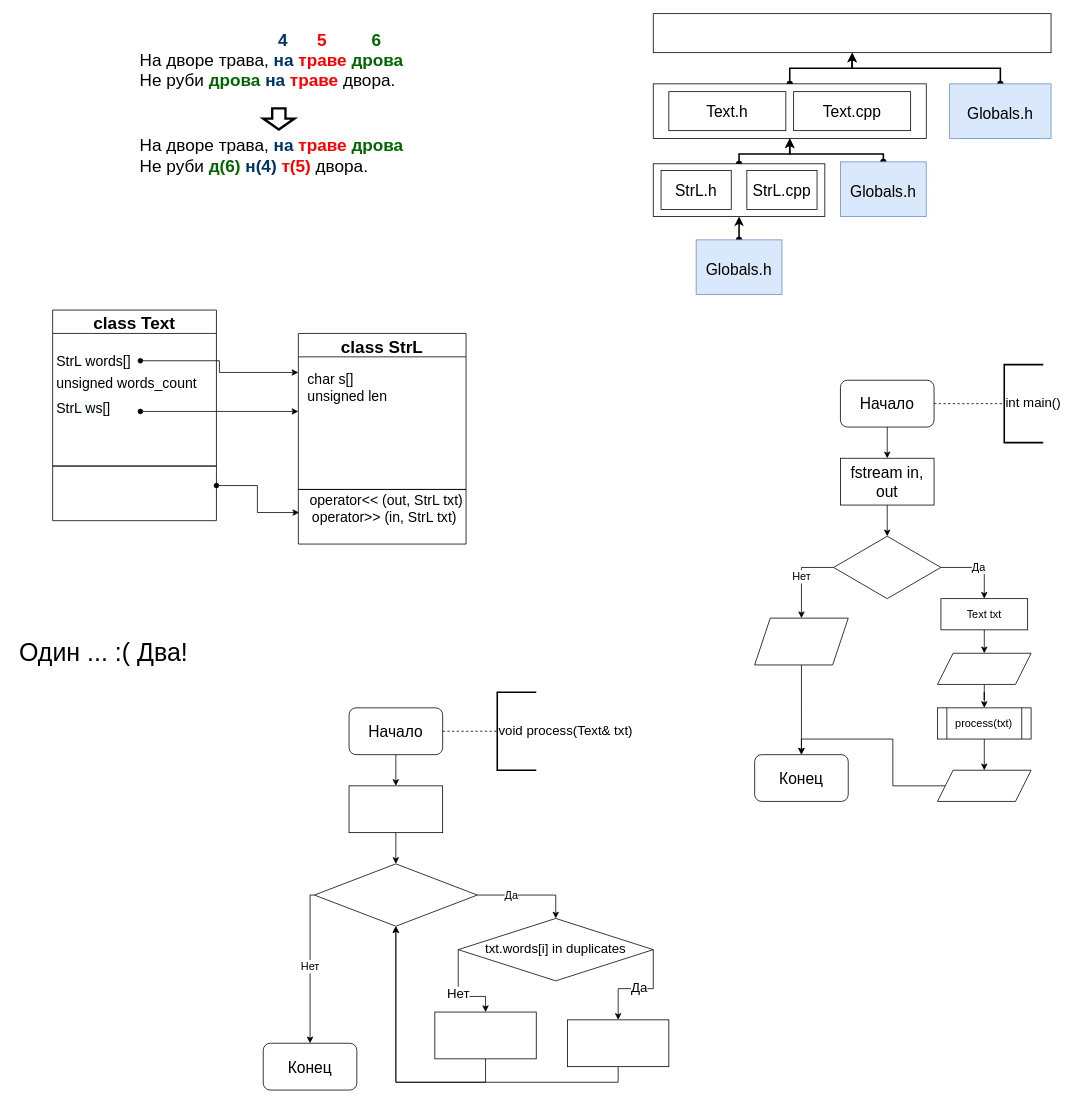
The diagram is 1074 pixels wide and 1104 high, and some of its shapes have lost their labels. The shapes that lost their labels are listed below. From the top down, each one's centre as x and y in pixels, then its label:
point 851,33: main.cpp
point 134,493: operator<< (out, Text txt) operator>> (in, Text txt)
point 887,567: файлы открылись
point 801,641: Сообщение об ошибке
point 984,668: считать txt
point 984,785: вывод txt
point 395,809: duplicates[]
point 395,894: int i = 0;i<txt.len();i++
point 485,1035: add txt.words[i] in duplicates
point 618,1043: Заменить txt.word[i]
